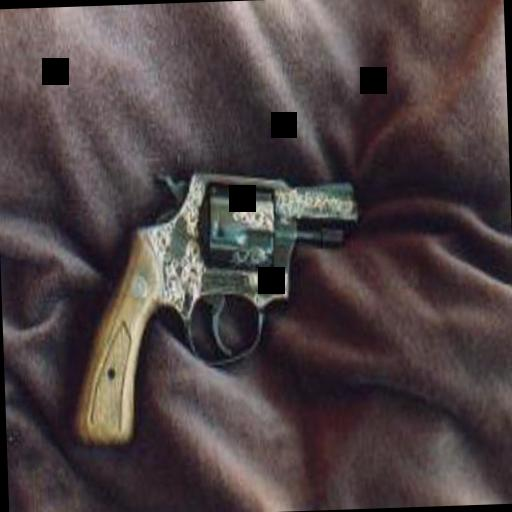Handgun: (60, 162, 370, 444)
